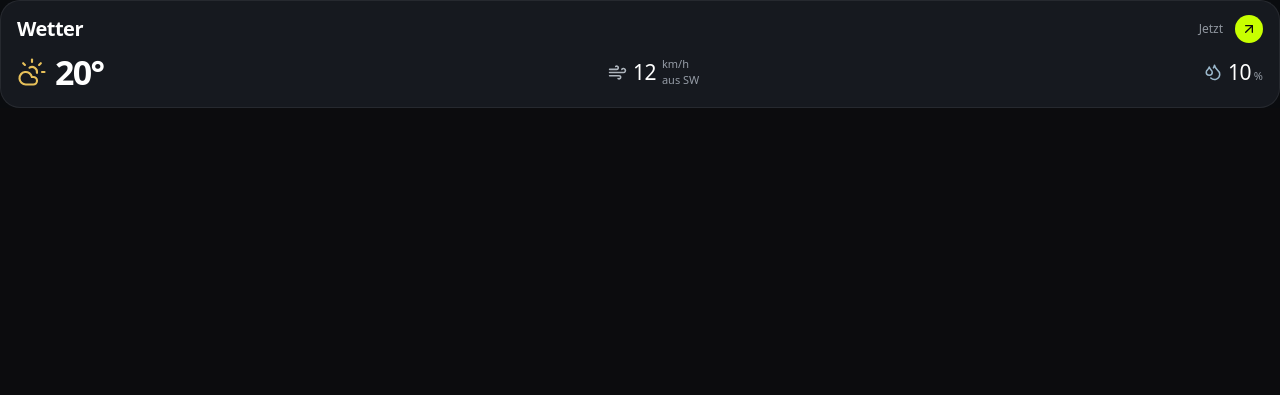
it: Today weather › is compact by default and exposes hourly rain only when expanded
Later steps or results of the test are not shown.
Expected: the element named "Regenwahrscheinlichkeit 10 Prozent" is shown, [1204,62,1263,82]
Click the button named "Wetter öffnen". click: (1249, 29)
box: [1235,15,1263,43]
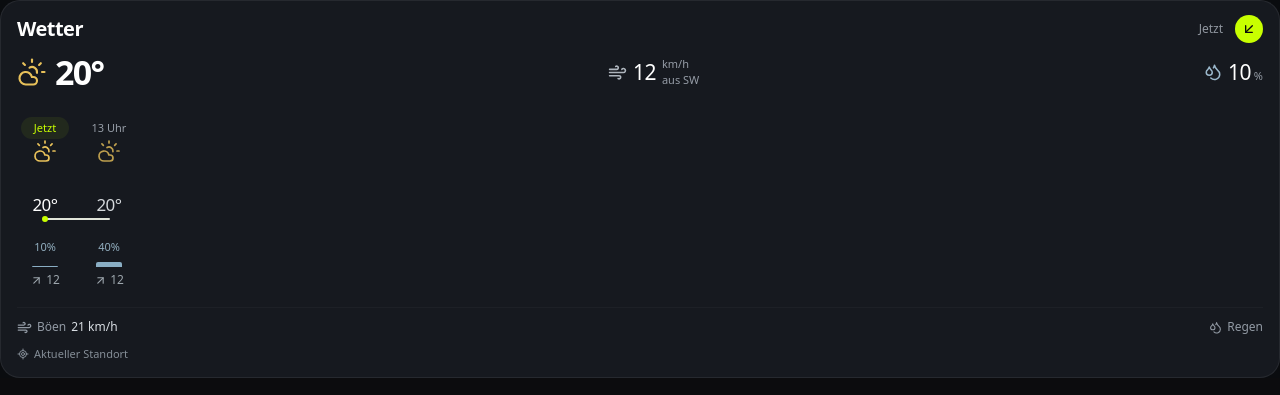
Result: the button "13 Uhr 20° 40% 12" is shown at [77,107,141,307]
